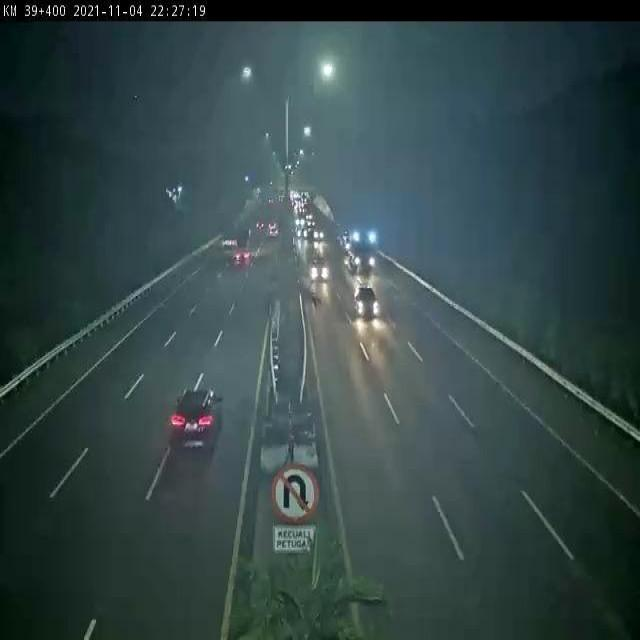car: (167, 390, 223, 450), (353, 284, 378, 317), (309, 256, 328, 281)
truck-m-: (344, 240, 380, 285), (233, 228, 254, 264)
